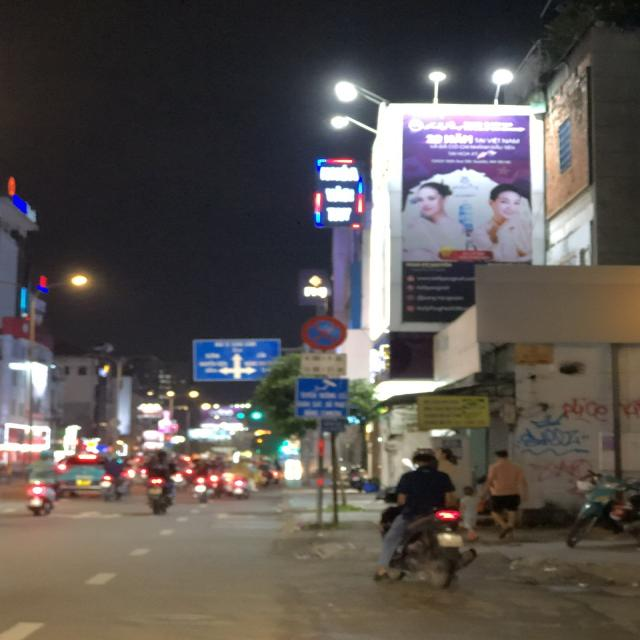Bien bao cam dung xe va do xe: (296, 311, 352, 352)
